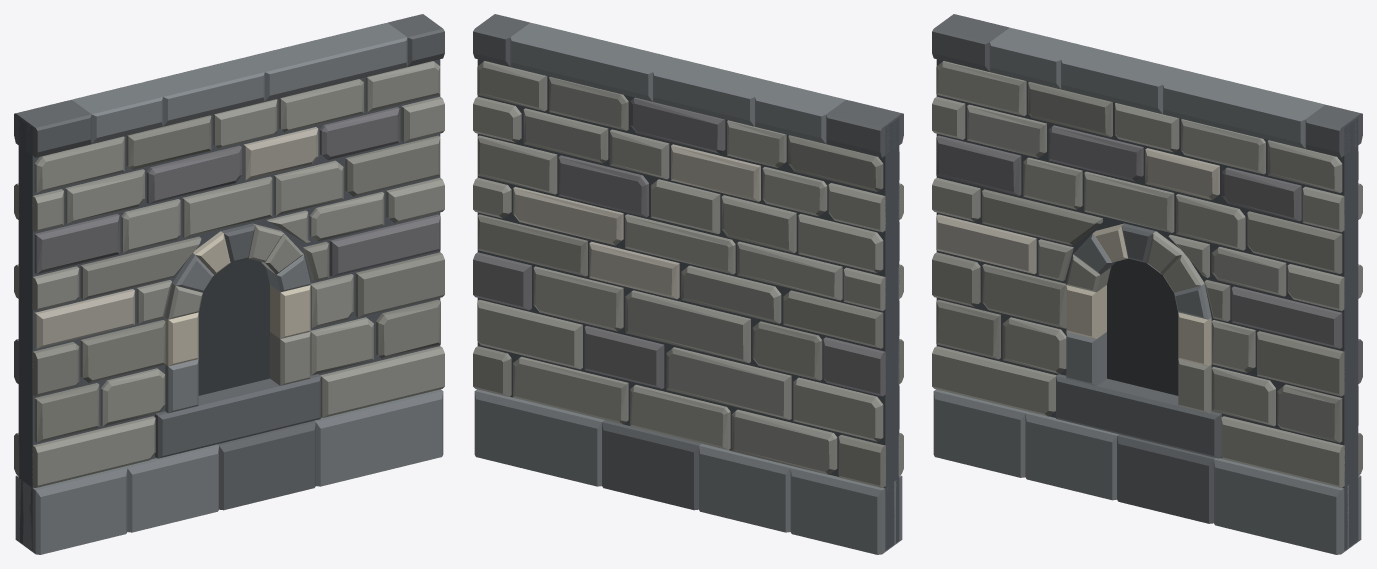
Rendered from SM_LPD_Struct_WallNiche_01.fbx.
The picture shows the model from 3 angles, left to right: view 1: azimuth 30°, elevation 25°; view 2: azimuth 150°, elevation 25°; view 3: azimuth 330°, elevation 25°; orthographic projection.
Parts seen in each view (by area): view 1: SM_LPD_Struct_WallNiche_01; view 2: SM_LPD_Struct_WallNiche_01; view 3: SM_LPD_Struct_WallNiche_01.
Boxes of the visible parts, bbox=[...] form: SM_LPD_Struct_WallNiche_01: bbox=[14, 14, 444, 554]; SM_LPD_Struct_WallNiche_01: bbox=[473, 14, 903, 554]; SM_LPD_Struct_WallNiche_01: bbox=[932, 14, 1362, 554].
Size of the model in its own units: 4 by 4 by 0.4.
